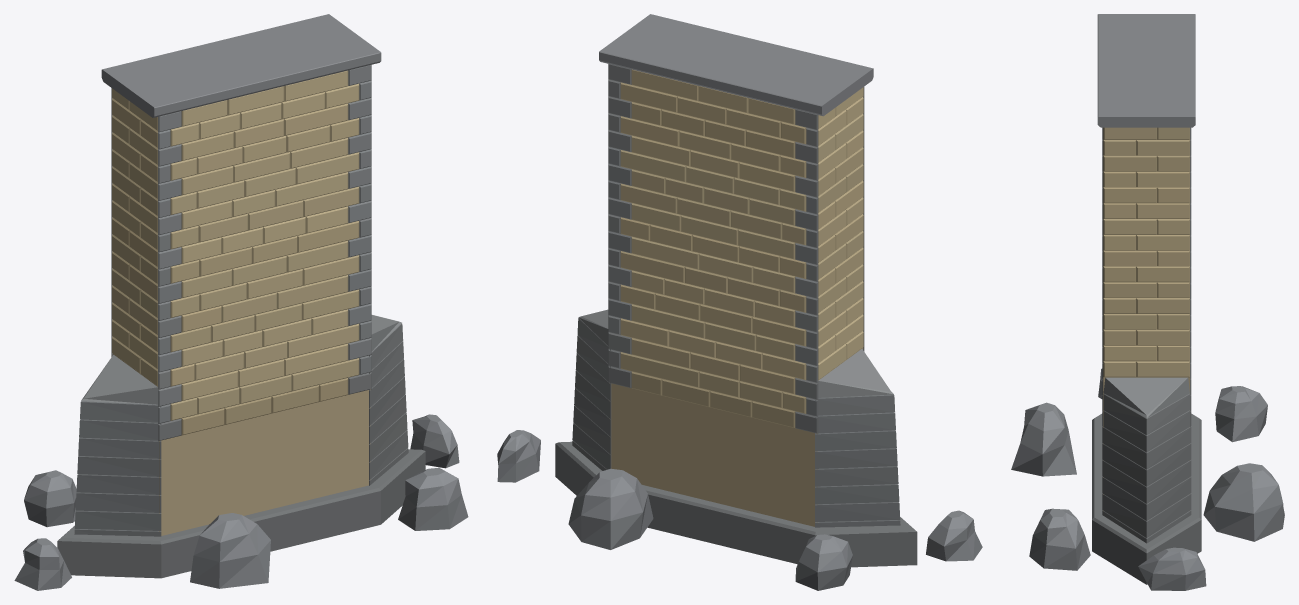
File: b6-bridge-pier-r2.glb
3 renders of one model, left to right at view 1: azimuth 30°, elevation 25°; view 2: azimuth 150°, elevation 25°; view 3: azimuth 270°, elevation 25°, orthographic. The views are drawn at different scales.
Visible parts, largest first — view 1: Mesh_PierLimestone, Mesh_PierGranite, Mesh_PierRock; view 2: Mesh_PierLimestone, Mesh_PierGranite, Mesh_PierRock; view 3: Mesh_PierGranite, Mesh_PierLimestone, Mesh_PierRock.
Part boxes in pixels (x1,y1,x2,y2): Mesh_PierLimestone: [112, 70, 370, 535]; Mesh_PierGranite: [57, 14, 425, 578]; Mesh_PierRock: [14, 414, 468, 590]; Mesh_PierLimestone: [609, 69, 863, 526]; Mesh_PierGranite: [555, 14, 917, 567]; Mesh_PierRock: [497, 430, 982, 590]; Mesh_PierGranite: [1092, 14, 1201, 584]; Mesh_PierLimestone: [1103, 127, 1189, 510]; Mesh_PierRock: [1011, 368, 1284, 590].
Bounding box in the file's own units: 16.49 × 16.2 × 9.22.
